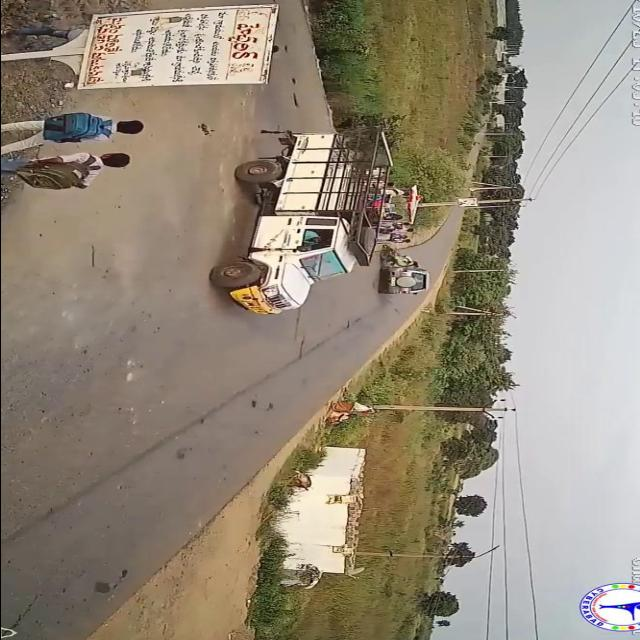accident: (372, 243, 436, 297)
